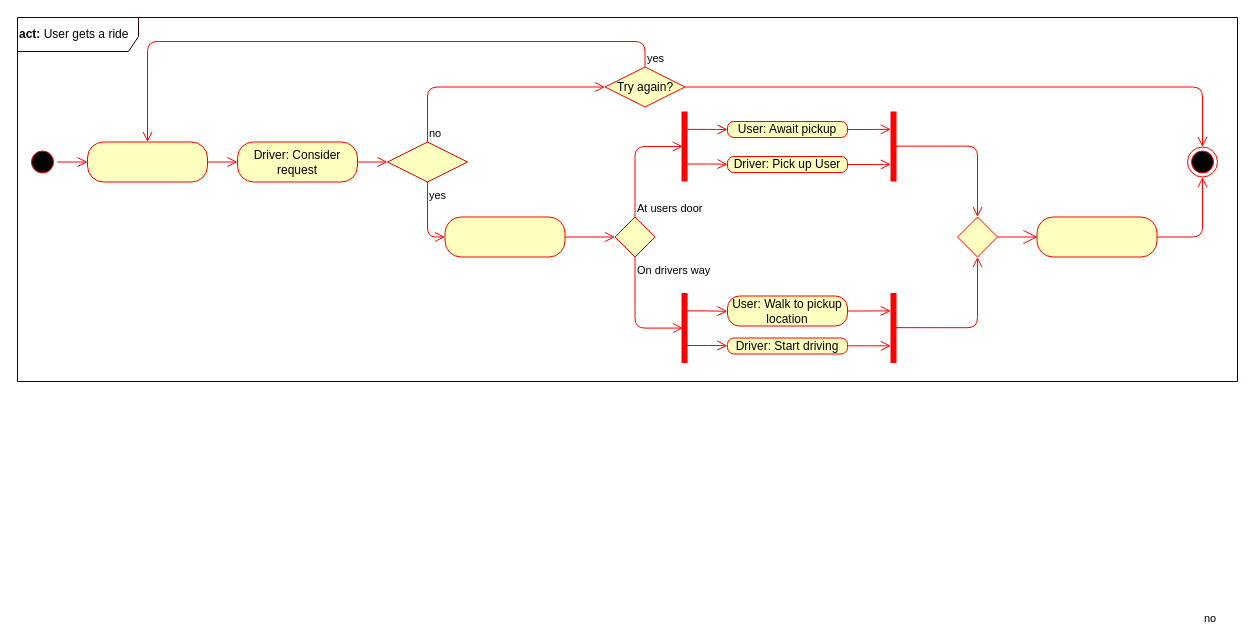
The diagram is 1255 pixels wide and 642 high, and some of its shapes have lost their labels. The centre of each missing label's shape, as x and y in pixels:
"Accepted?" belongs at [427,161].
"Driver and User: Enjoy the ride" belongs at [1096,236].
"Driver and User: Settle on pickup location" belongs at [504,236].
"User: Ask for a ride" belongs at [147,161].
